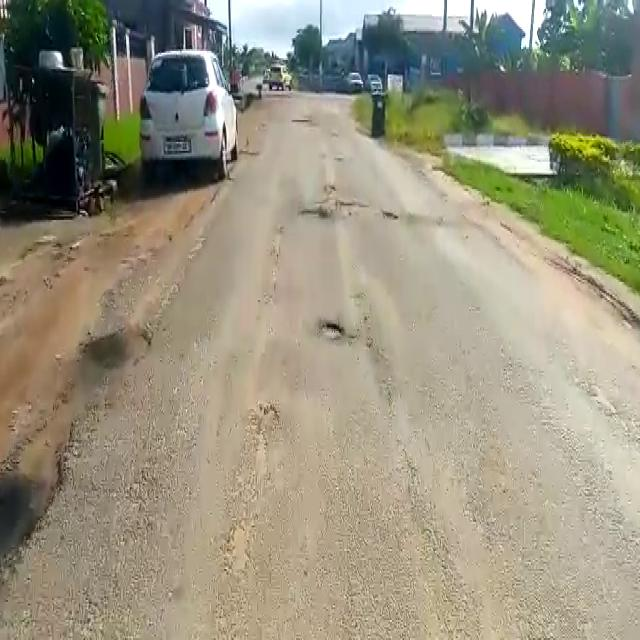Pothole: (315, 315, 351, 345)
